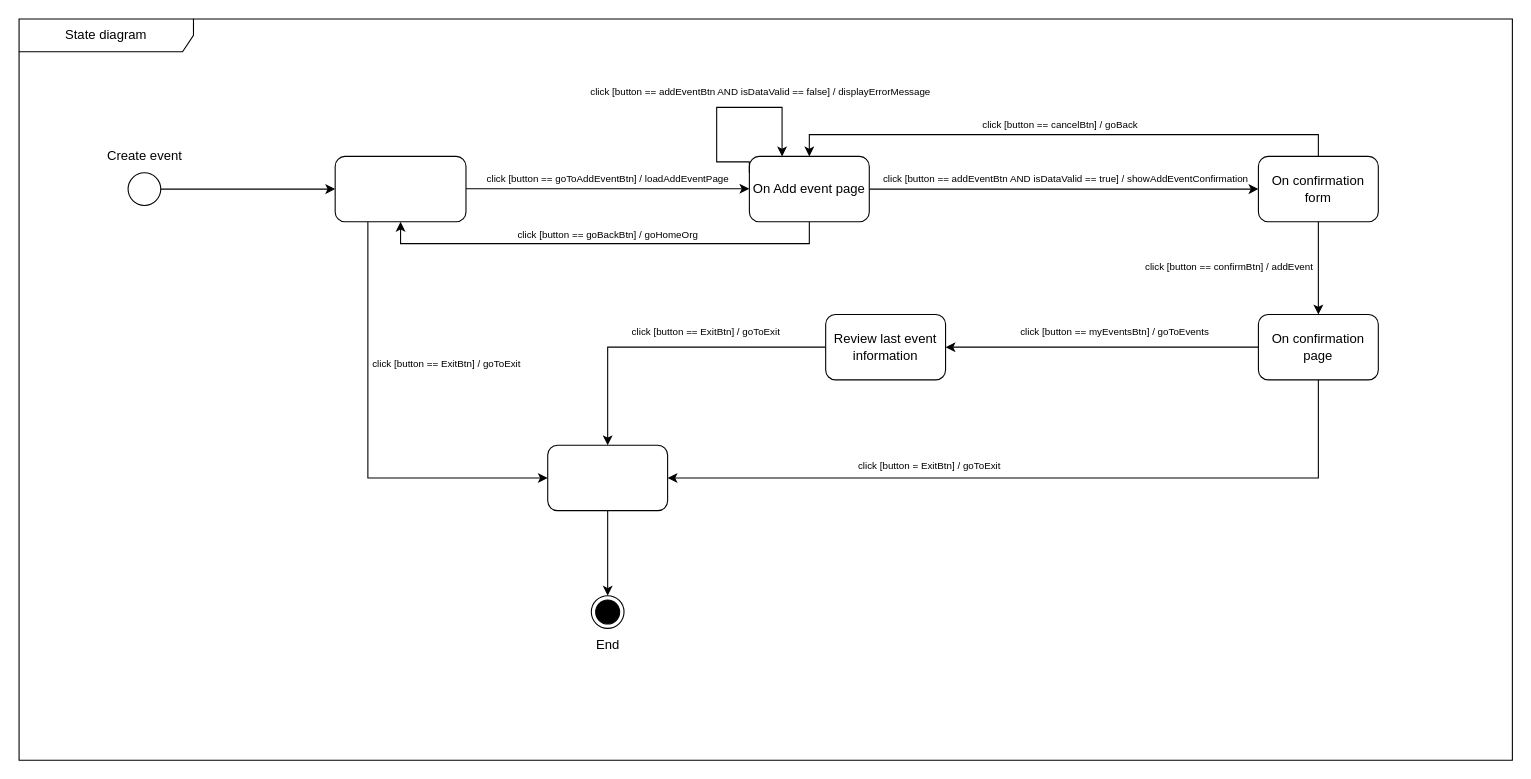
The diagram is 1531 pixels wide and 779 high, and some of its shapes have lost their labels. The centre of each missing label's shape, as x and y in pixels:
"Exit" belongs at [607,477].
"On Home page organizer" belongs at [400,188].
